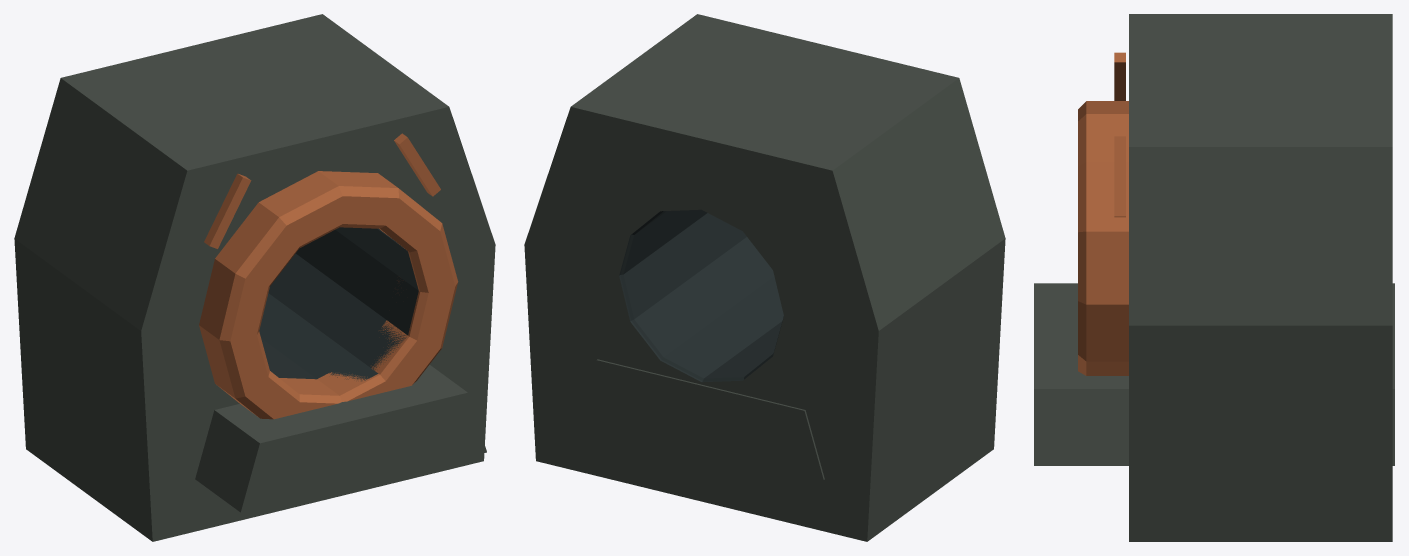
The model's file is LAVA_SPOUT.shadow.glb.
3 renders of one model, left to right at view 1: azimuth 30°, elevation 25°; view 2: azimuth 150°, elevation 25°; view 3: azimuth 270°, elevation 25°, orthographic. The views are drawn at different scales.
Visible parts, largest first — view 1: Body_Mesh; view 2: Body_Mesh; view 3: Body_Mesh.
Boxes of the visible parts, x1,y1,x2,y2 form: Body_Mesh: (14, 14, 495, 541); Body_Mesh: (524, 14, 1005, 541); Body_Mesh: (1034, 14, 1394, 541).
Bounding box in the file's own units: 0.92 × 0.9 × 0.78.
